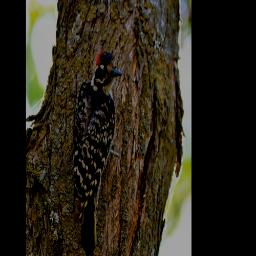Woodpecker: (76, 48, 122, 256)
